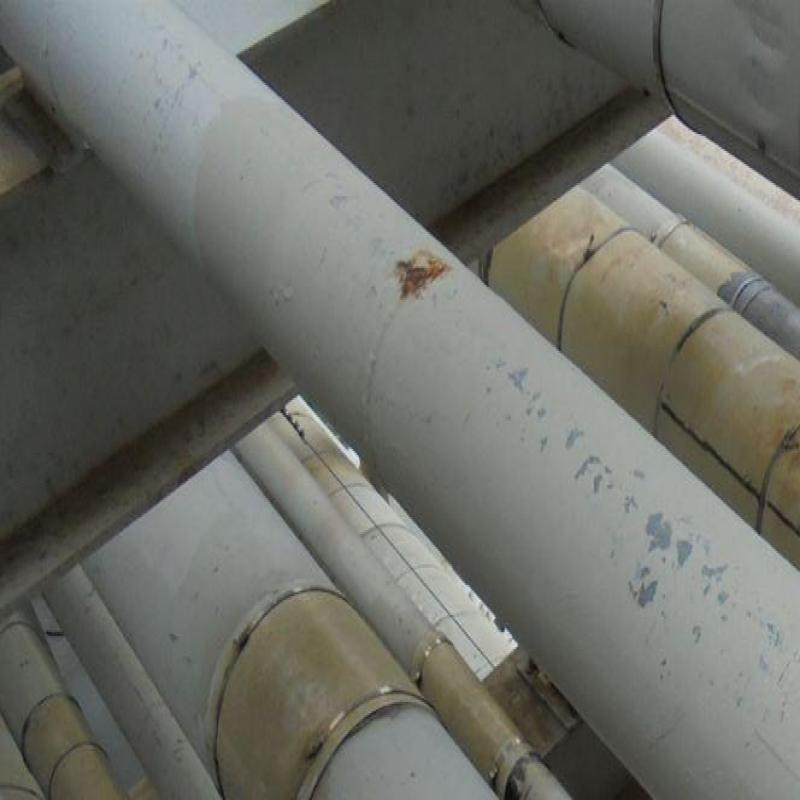corrosion: (396, 251, 441, 295)
